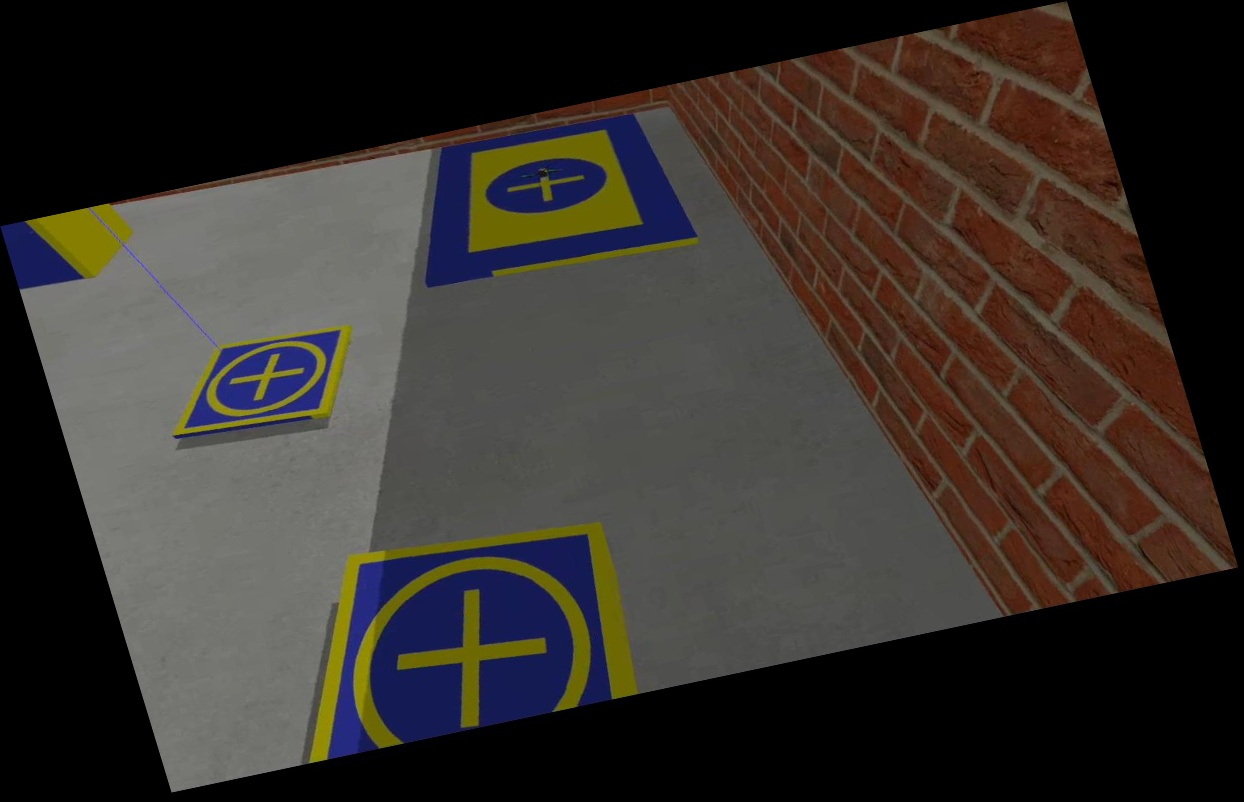large_base: (387, 103, 699, 299)
small_base: (255, 500, 656, 764), (150, 312, 374, 450)
